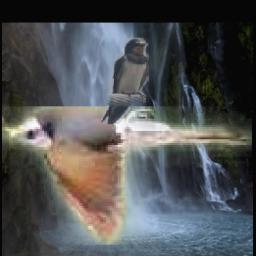Cuckoo: (3, 107, 253, 246)
Swallow: (100, 38, 149, 124)
